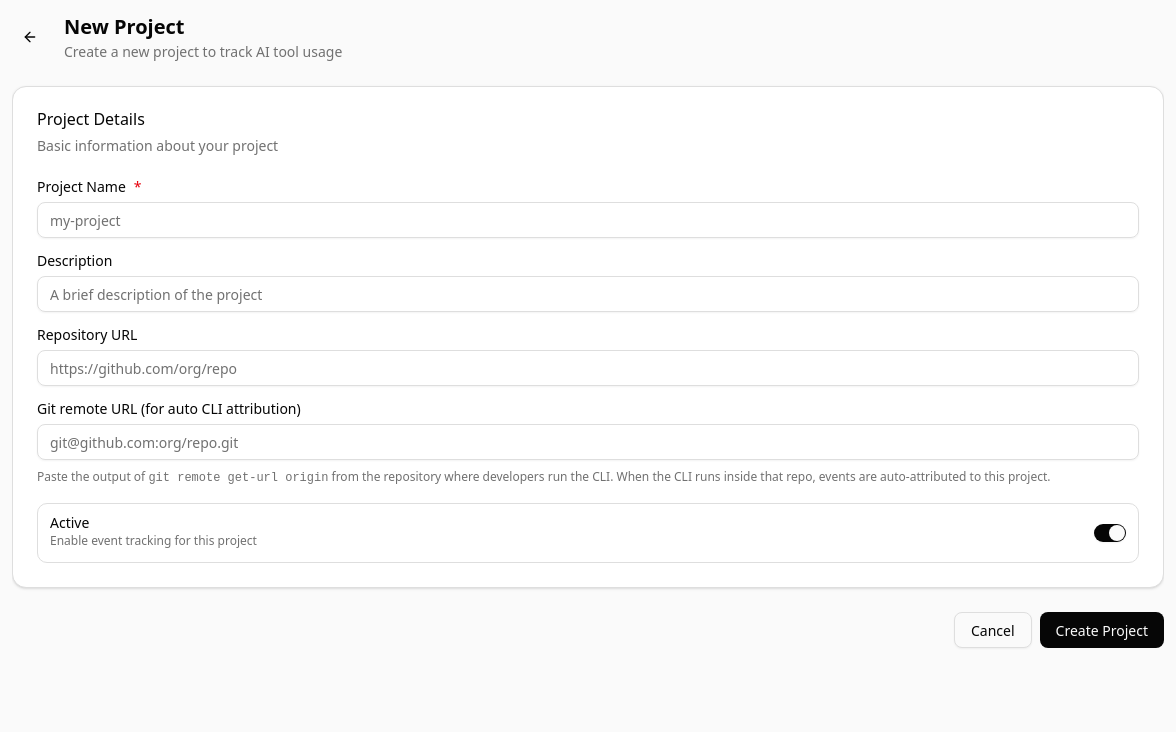
ProjectForm › validation › shows error for invalid repository URL
The image size is (1176, 732).
Type "My Project" into the field labelled "Project Name *". click: x=588, y=220
box: [37,202,1139,238]
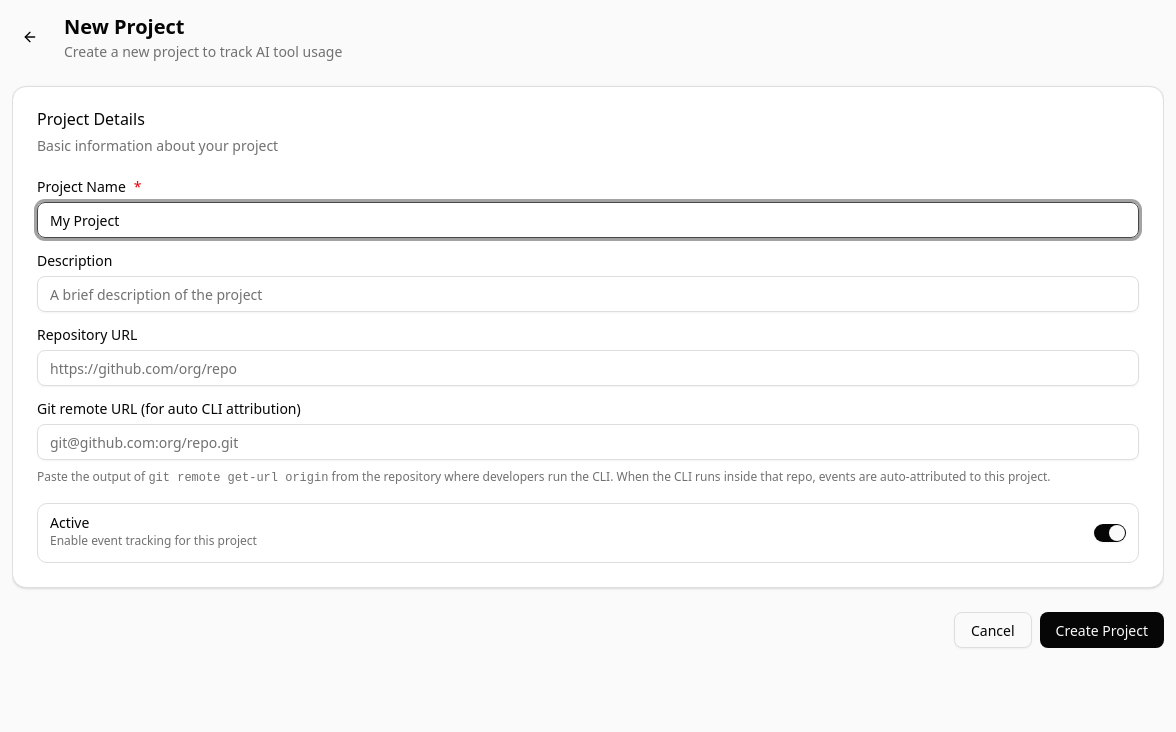
Type "not-a-url" into the field labelled "Repository URL". click: x=588, y=368
box: [37,350,1139,386]
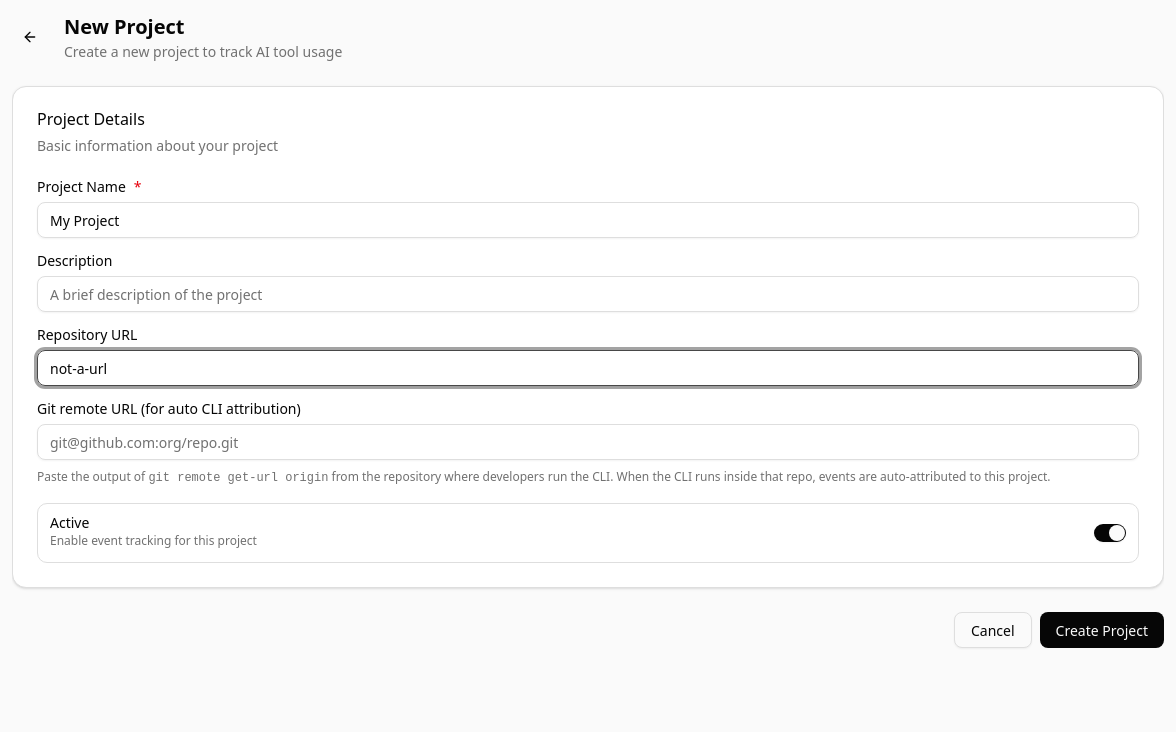
Click the button "Create Project". click: x=1102, y=630
box: [1040,612,1164,648]
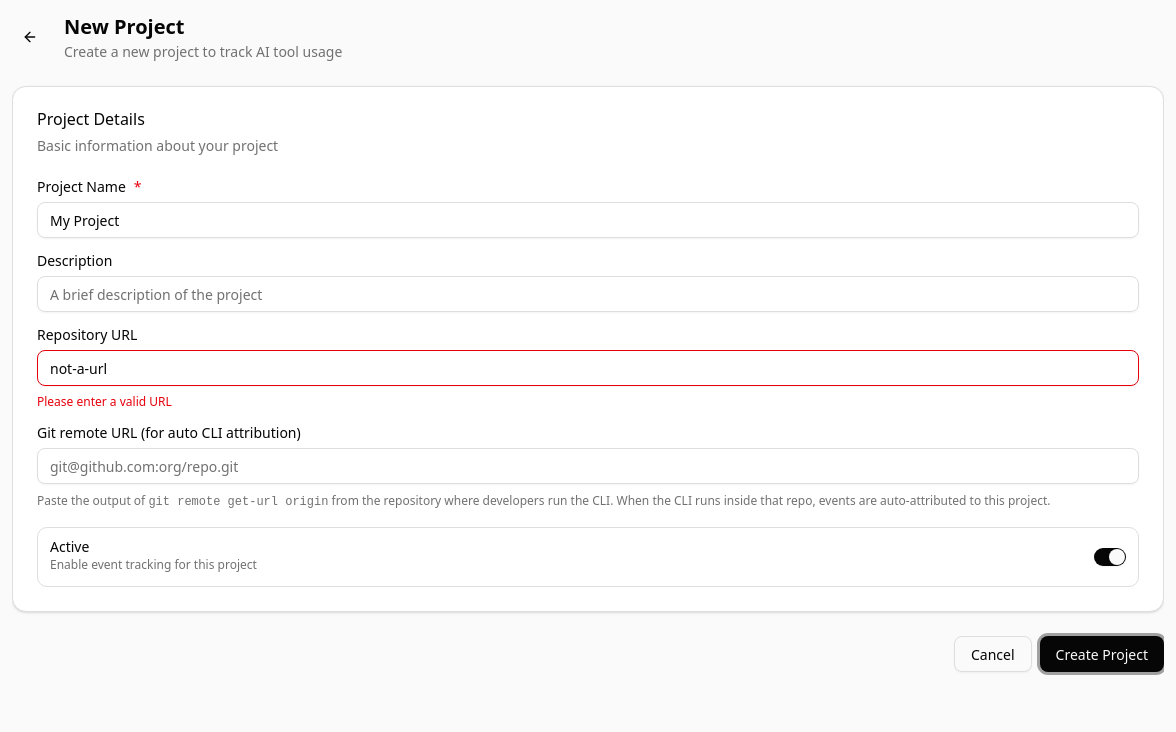
Check: the text "Please enter a valid URL" is shown, box [37,393,172,410]
